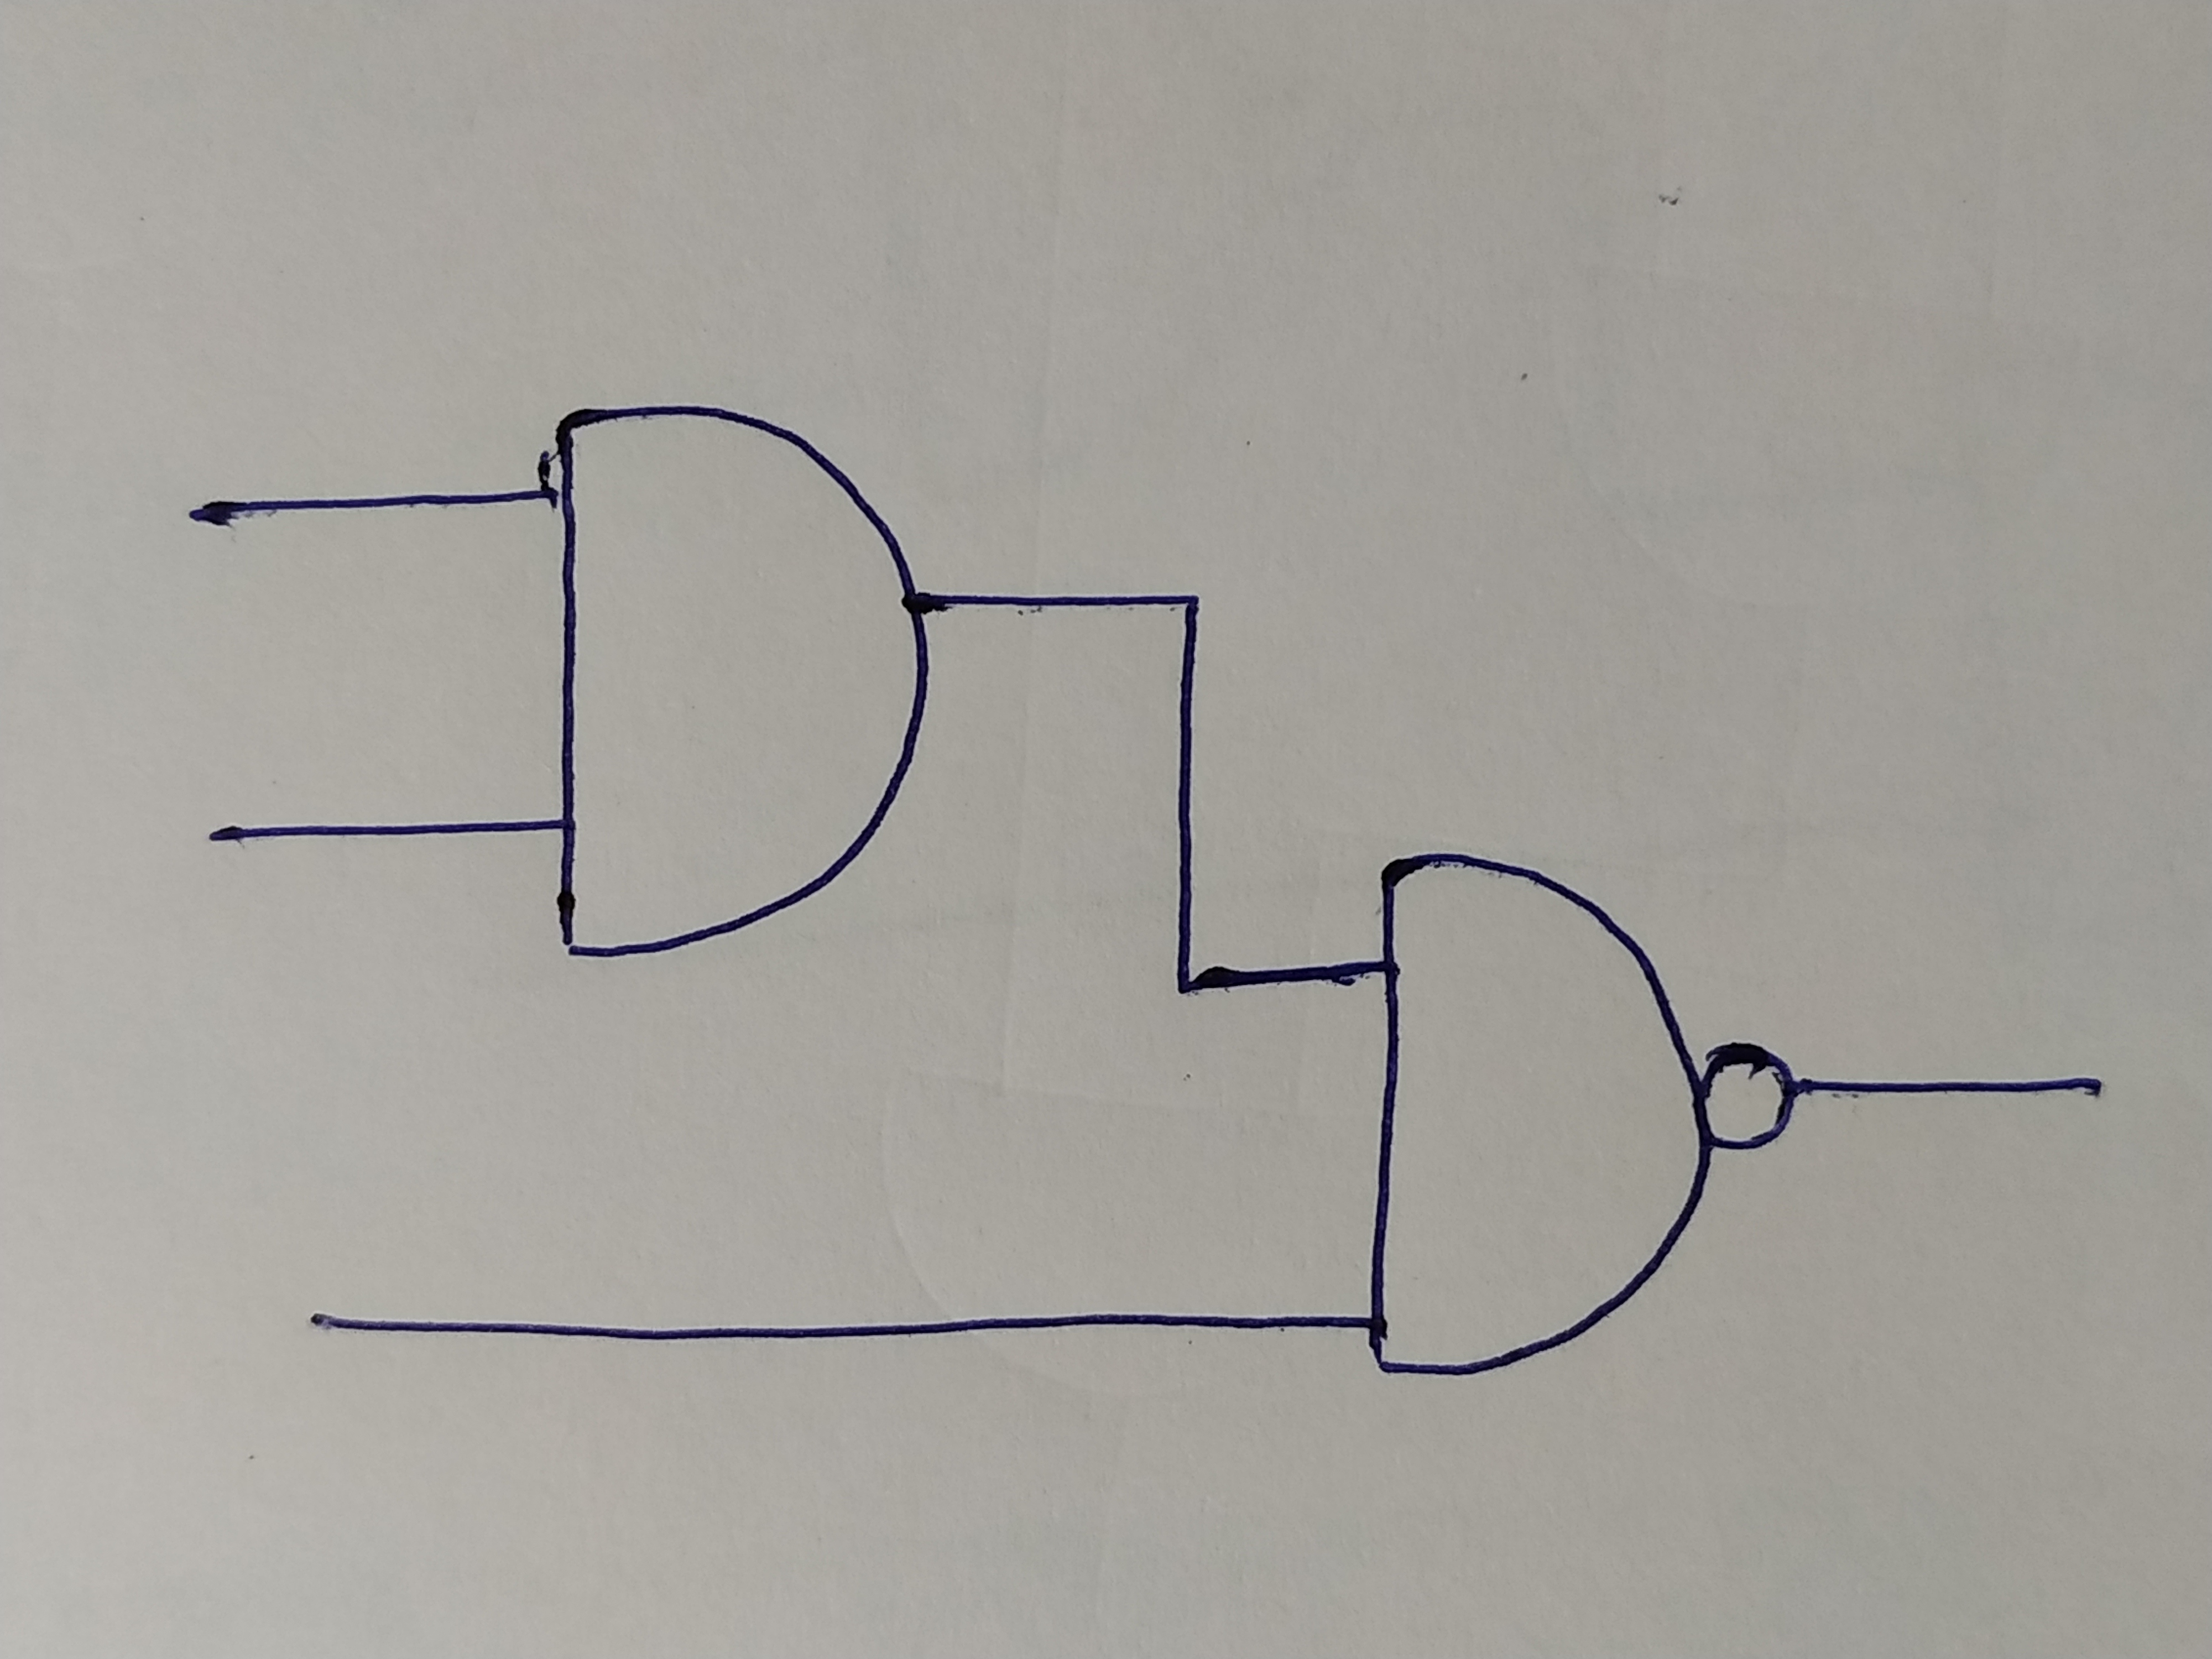and: (554, 408, 935, 955), (1376, 850, 1696, 1375)
not: (1702, 1053, 1792, 1148)
